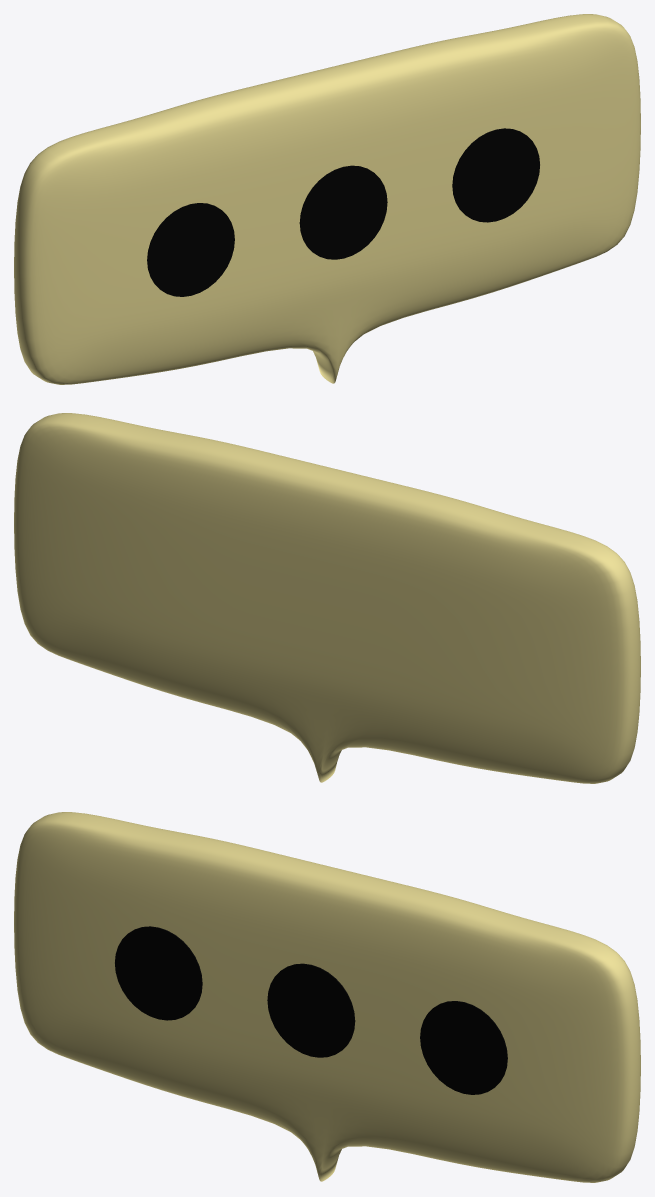
File: yellowbubble.fbx
3 views of the same model, one above another, from view 1: azimuth 30°, elevation 25°; view 2: azimuth 150°, elevation 25°; view 3: azimuth 330°, elevation 25° (orthographic).
Visible parts, largest first — view 1: Roundcube, Circle.002, Circle, Circle.001; view 2: Roundcube; view 3: Roundcube, Circle.001, Circle, Circle.002.
Part boxes in pixels (left/top/right/bottom): Roundcube: left=14, top=14, right=640, bottom=384; Circle.002: left=452, top=128, right=539, bottom=222; Circle: left=299, top=165, right=387, bottom=259; Circle.001: left=147, top=203, right=234, bottom=296; Roundcube: left=14, top=413, right=640, bottom=783; Roundcube: left=14, top=812, right=640, bottom=1182; Circle.001: left=115, top=926, right=202, bottom=1020; Circle: left=267, top=963, right=355, bottom=1057; Circle.002: left=420, top=1001, right=507, bottom=1094.
Size of the model in its own units: 84.45 by 40.01 by 7.62.
